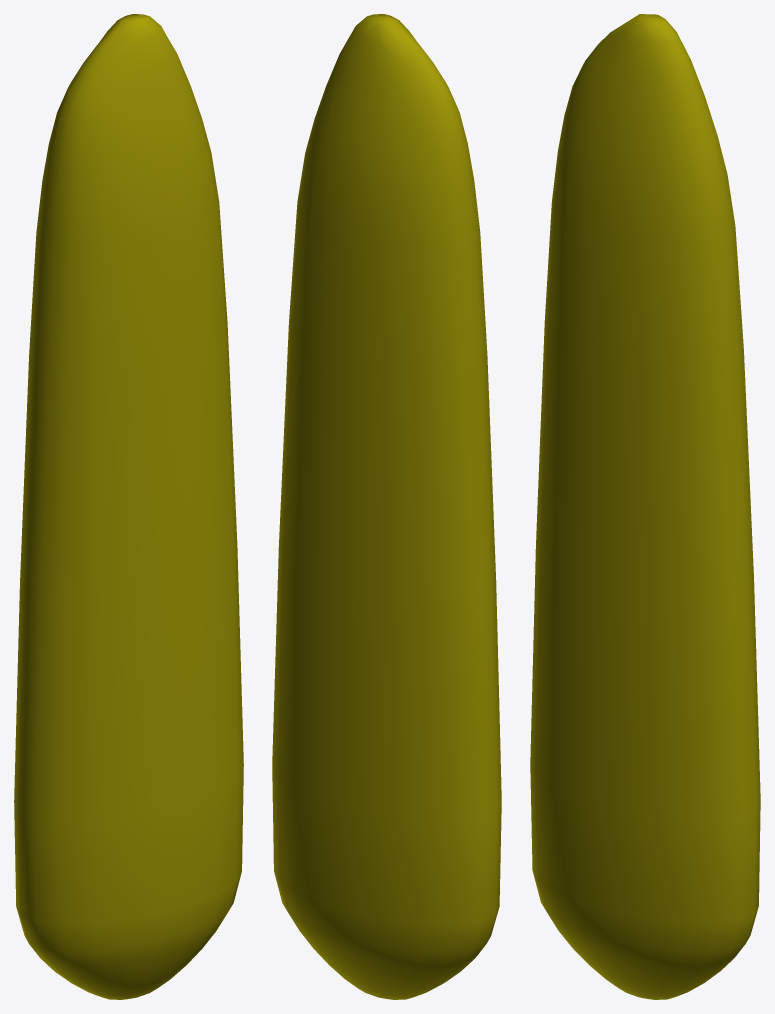
Rendered from DaisySeedSDMNew.fbx.
The picture shows the model from 3 angles, left to right: view 1: azimuth 30°, elevation 25°; view 2: azimuth 150°, elevation 25°; view 3: azimuth 330°, elevation 25°; orthographic projection.
Parts seen in each view (by area): view 1: Sphere.001; view 2: Sphere.001; view 3: Sphere.001.
Part boxes in pixels (box(x1,y1,x2,y2)): Sphere.001: box(14, 14, 243, 999); Sphere.001: box(272, 14, 501, 999); Sphere.001: box(530, 14, 760, 999).
Bounding box in the file's own units: 45.4 × 194 × 24.09.
